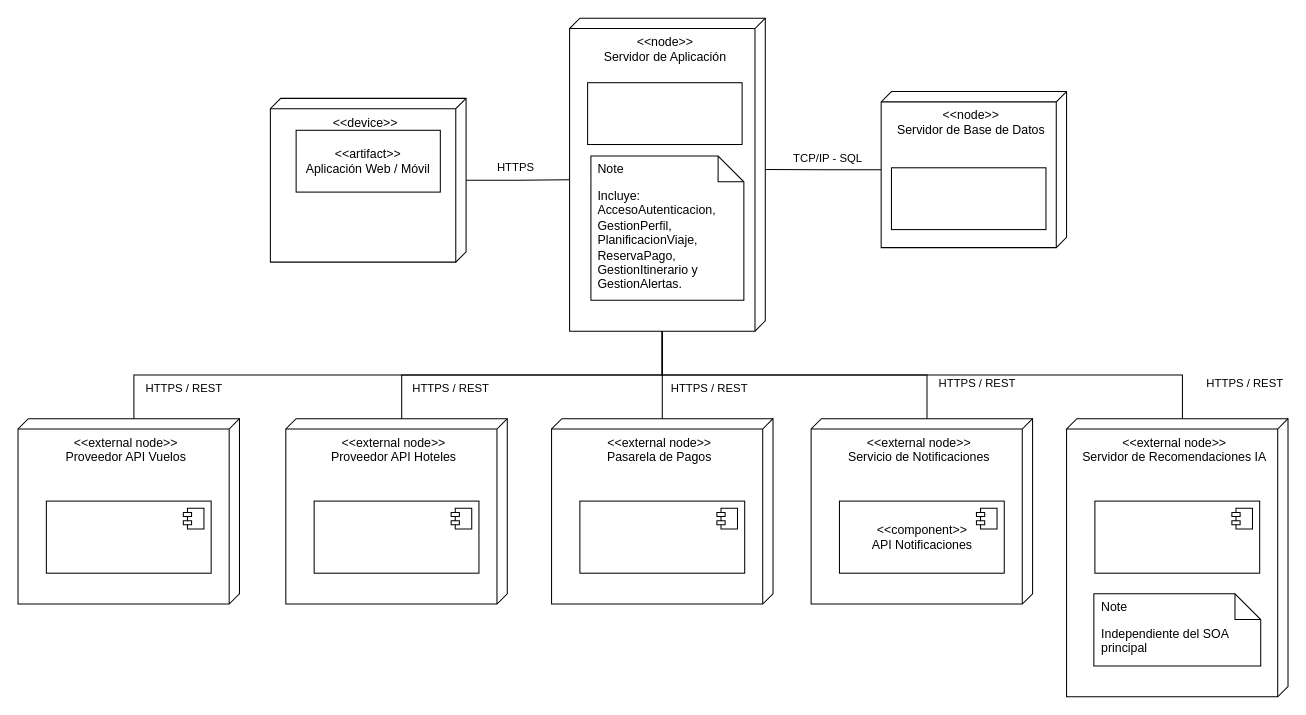
This 1306x715 diagram has some shape labels left out. The centre of each missing label's shape, as x and y in pixels:
"<<artifact>> BD SistemaGestionViajes" goes at pixel 968 198.
"<<artifact>> SistemaGestionViajesApp" goes at pixel 664 113.
"<<component>> API Hoteles" goes at pixel 396 536.
"<<component>> API Pagos" goes at pixel 662 536.
"<<component>> API Recomendaciones IA" goes at pixel 1177 536.
"<<component>> API Vuelos" goes at pixel 128 536.
